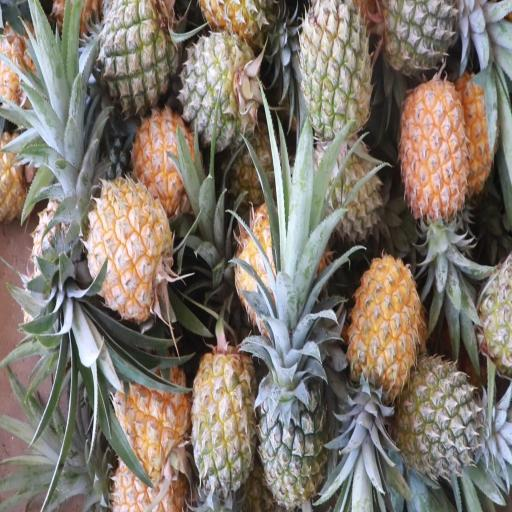Pineapple - v8 v1: (86, 168, 176, 325), (346, 251, 426, 402), (190, 336, 260, 502), (400, 80, 472, 232), (133, 102, 209, 222), (192, 0, 278, 64)
